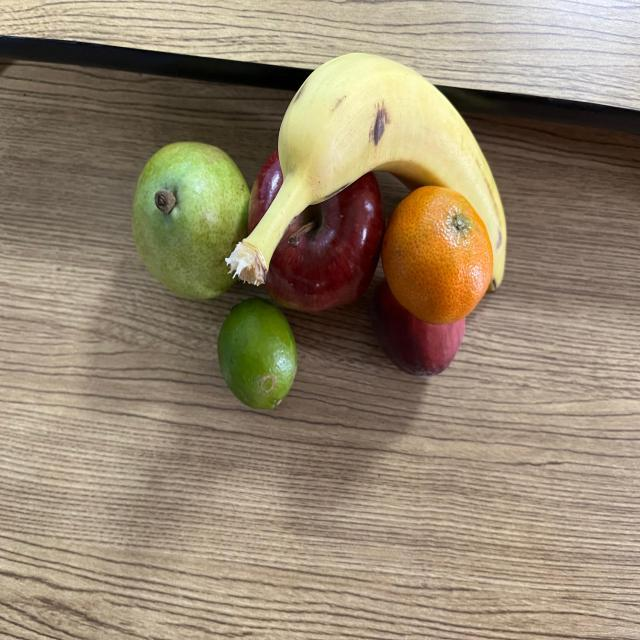Apel Merah: (250, 140, 388, 320)
Jeruk Mandarin: (379, 180, 497, 321)
Lemon: (128, 140, 254, 304), (216, 297, 301, 415)
Persik: (377, 262, 470, 380)
Pisang: (223, 48, 508, 298)
